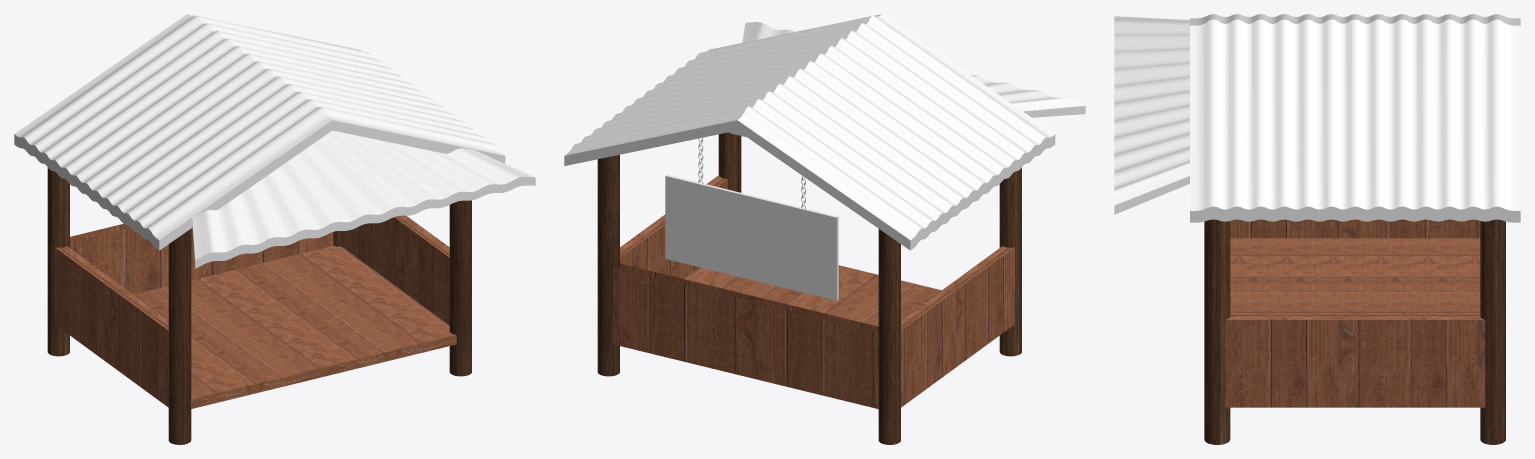
The model's file is gazebo.glb.
3 renders of one model, left to right at view 1: azimuth 30°, elevation 25°; view 2: azimuth 150°, elevation 25°; view 3: azimuth 270°, elevation 25°, orthographic. The views are drawn at different scales.
Parts seen in each view (by area): view 1: Cube.001, Cube, Cylinder; view 2: Cube.001, Cube, Cube.003, Cylinder; view 3: Cube.001, Cube, Cylinder.
Part boxes in pixels (x1,y1,x2,y2): Cube.001: (14, 14, 535, 268); Cube: (54, 215, 456, 408); Cylinder: (47, 167, 471, 444); Cube.001: (564, 14, 1085, 250); Cube: (613, 175, 1014, 408); Cube.003: (665, 175, 838, 300); Cylinder: (597, 132, 1021, 444); Cube.001: (1114, 14, 1520, 222); Cube: (1225, 219, 1485, 407); Cylinder: (1204, 219, 1505, 444).
Bounding box in the file's own units: 5.07 × 4.2 × 4.52.
Materials: 5 (3 with a texture image).
